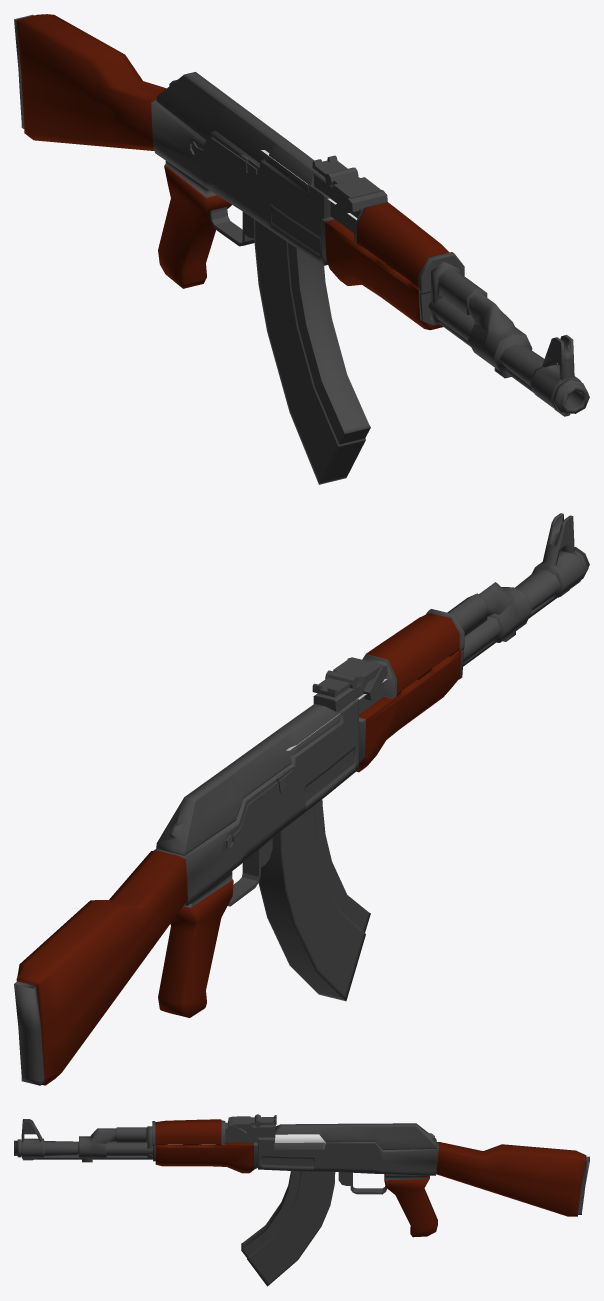
3 views of the same model, one above another, from view 1: azimuth 30°, elevation 25°; view 2: azimuth 150°, elevation 25°; view 3: azimuth 270°, elevation 25° (orthographic). The views are drawn at different scales.
Parts seen in each view (by area): view 1: Cube; view 2: Cube; view 3: Cube.
Part boxes in pixels (x1,y1,x2,y2): Cube: (14,14,589,484); Cube: (14,513,589,1085); Cube: (14,1114,589,1286).
Bounding box in the file's own units: 3.89 × 27.28 × 86.06.
